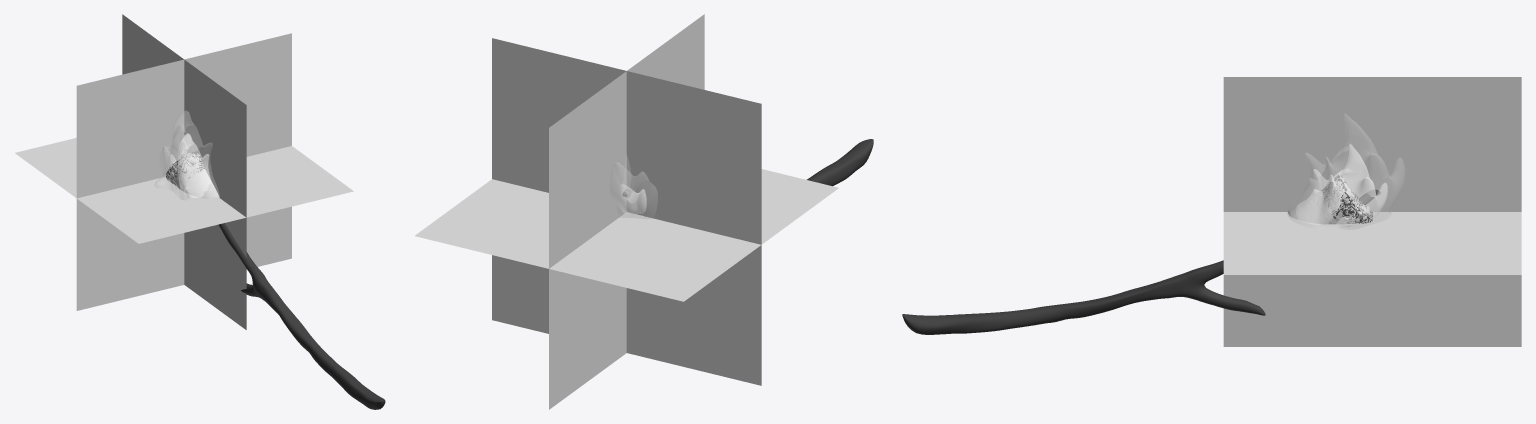
The picture shows the model from 3 angles, left to right: view 1: azimuth 30°, elevation 25°; view 2: azimuth 150°, elevation 25°; view 3: azimuth 270°, elevation 25°; orthographic projection. The views are drawn at different scales.
Parts seen in each view (by area): view 1: pPlane3, pPlane2, pPlane1, flame1, stick1, innerflame1, marshmallow; view 2: pPlane3, pPlane2, pPlane1, flame1, stick1, innerflame1; view 3: pPlane2, pPlane1, flame1, stick1, innerflame1, marshmallow, ash.
Part boxes in pixels (bbox=[...]): pPlane3: bbox=[76, 33, 291, 310]; pPlane2: bbox=[122, 14, 246, 329]; pPlane1: bbox=[15, 138, 353, 243]; flame1: bbox=[154, 110, 219, 200]; stick1: bbox=[181, 154, 385, 409]; innerflame1: bbox=[168, 133, 214, 197]; marshmallow: bbox=[167, 153, 219, 198]; pPlane3: bbox=[492, 38, 761, 385]; pPlane2: bbox=[549, 14, 704, 409]; pPlane1: bbox=[415, 169, 838, 301]; flame1: bbox=[610, 156, 657, 218]; stick1: bbox=[623, 139, 873, 197]; innerflame1: bbox=[619, 184, 646, 214]; pPlane2: bbox=[1223, 77, 1521, 346]; pPlane1: bbox=[1223, 212, 1521, 274]; flame1: bbox=[1287, 114, 1404, 229]; stick1: bbox=[902, 189, 1380, 334]; innerflame1: bbox=[1296, 144, 1387, 226]; marshmallow: bbox=[1288, 177, 1371, 224]; ash: bbox=[1322, 175, 1372, 223].
Size of the model in its own units: 7.5 by 7.5 by 15.6.
Materials: 6 (1 with a texture image).
